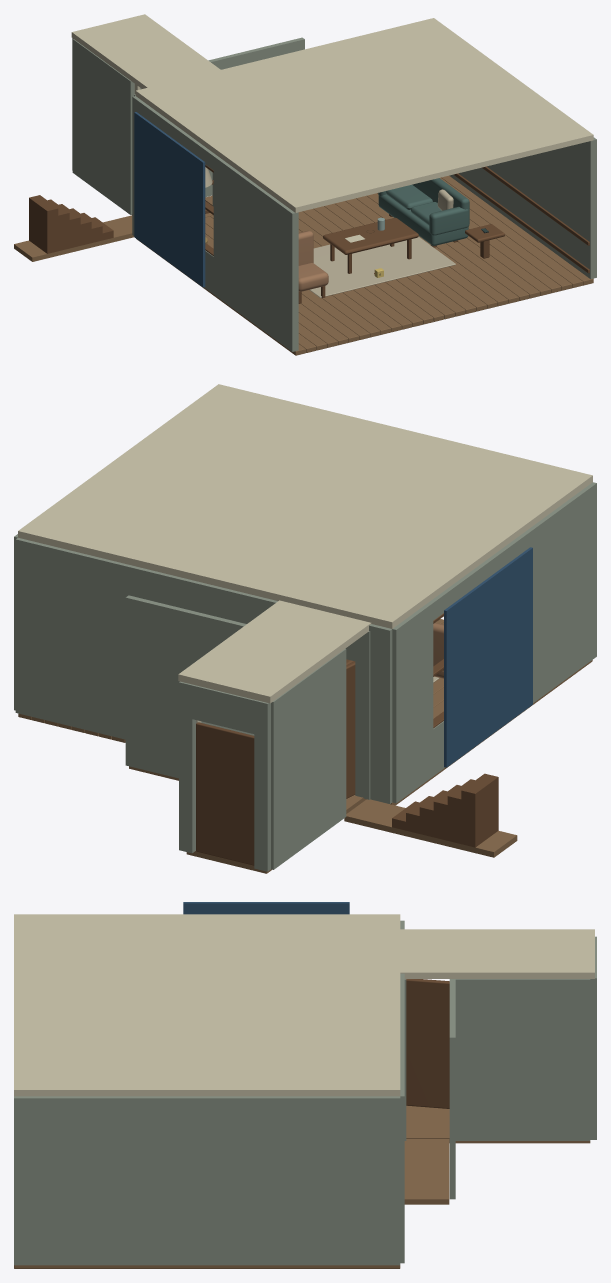
The model's file is apartment.glb.
3 views of the same model, one above another, from view 1: azimuth 30°, elevation 25°; view 2: azimuth 150°, elevation 25°; view 3: azimuth 270°, elevation 25° (orthographic). The views are drawn at different scales.
Parts seen in each view (by area): view 1: ceiling, west wall, east wall, outside night, hall west side.001, hall ceiling, rug, coffee table, stair tread.005, service corridor back, sofa cushion, stair connection floor (+36 smaller); view 2: ceiling, north wall.001, outside night, hall west side.001, west wall, service corridor back, hall ceiling, front entrance door, west wall.001, north wall, front entrance wall, front entrance wall.001 (+8 smaller); view 3: ceiling, east wall, hall side.001, hall ceiling, service door, service corridor floor, outside night, hall floor, floorboard.027, service corridor back, north wall.001, front entrance wall.001 (+1 smaller).
Boxes of the visible parts, <box> form: ceiling: <box>135,18,593,212</box>; west wall: <box>213,155,298,351</box>; east wall: <box>449,137,596,279</box>; outside night: <box>134,112,205,287</box>; hall west side.001: <box>72,39,134,214</box>; hall ceiling: <box>71,14,220,88</box>; rug: <box>309,236,455,297</box>; coffee table: <box>323,217,418,254</box>; stair tread.005: <box>29,195,58,253</box>; service corridor back: <box>205,37,304,197</box>; sofa cushion: <box>378,194,468,245</box>; stair connection floor: <box>14,215,134,261</box>; ceiling: <box>18,384,592,628</box>; north wall.001: <box>15,537,277,739</box>; outside night: <box>444,547,532,767</box>; hall west side.001: <box>271,648,346,869</box>; west wall: <box>494,482,596,702</box>; service corridor back: <box>125,595,246,778</box>; hall ceiling: <box>178,600,371,703</box>; front entrance door: <box>196,722,254,865</box>; west wall.001: <box>392,602,433,803</box>; north wall: <box>355,624,392,803</box>; front entrance wall: <box>254,700,270,871</box>; front entrance wall.001: <box>179,681,195,853</box>; ceiling: <box>14,914,400,1096</box>; east wall: <box>14,1096,400,1265</box>; hall side.001: <box>450,979,590,1140</box>; hall ceiling: <box>400,929,594,978</box>; service door: <box>406,979,449,1108</box>; service corridor floor: <box>404,1139,449,1204</box>; outside night: <box>183,902,349,914</box>; hall floor: <box>406,1105,590,1143</box>; floorboard.027: <box>14,1265,400,1268</box>; service corridor back: <box>449,979,455,1199</box>; north wall.001: <box>400,973,404,1263</box>; front entrance wall.001: <box>590,972,596,1139</box>.
Size of the model in its own units: 9.45 by 3.33 by 9.81.
